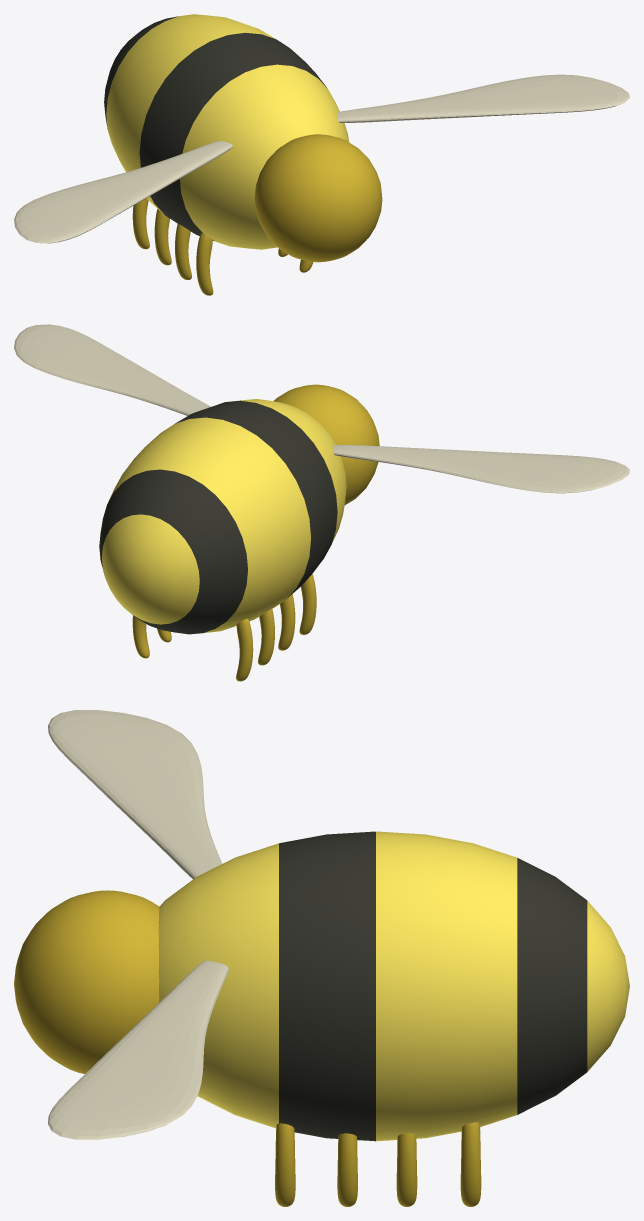
Rendered from BeeAnimation.fbx.
The picture shows the model from 3 angles, top to bottom: view 1: azimuth 30°, elevation 25°; view 2: azimuth 150°, elevation 25°; view 3: azimuth 270°, elevation 25°; orthographic projection. The views are drawn at different scales.
Visible parts, largest first — view 1: Mesh_BeeBody, Mesh_Bee_Head, Bee_Wing_Left_1, Bee_Wing_Left_1.001, Bee_Leg_Right_1, Bee_Leg_Right_2, Bee_Leg_Right_3, Bee_Leg_Right_4; view 2: Mesh_BeeBody, Bee_Wing_Left_1.001, Bee_Wing_Left_1, Mesh_Bee_Head, Bee_Leg_Right_4, Bee_Leg_Right_1, Bee_Leg_Right_3, Bee_Leg_Right_2, Bee_Leg_Left_4; view 3: Mesh_BeeBody, Mesh_Bee_Head, Bee_Wing_Left_1, Bee_Wing_Left_1.001, Bee_Leg_Left_4, Bee_Leg_Left_1, Bee_Leg_Left_3, Bee_Leg_Left_2.
Part boxes in pixels (bbox=[...]): Mesh_BeeBody: bbox=[104, 14, 348, 249]; Mesh_Bee_Head: bbox=[254, 134, 382, 262]; Bee_Wing_Left_1: bbox=[337, 74, 629, 122]; Bee_Wing_Left_1.001: bbox=[14, 141, 232, 243]; Bee_Leg_Right_1: bbox=[196, 233, 213, 295]; Bee_Leg_Right_2: bbox=[175, 223, 191, 279]; Bee_Leg_Right_3: bbox=[154, 209, 171, 265]; Bee_Leg_Right_4: bbox=[132, 198, 149, 249]; Mesh_BeeBody: bbox=[99, 399, 346, 634]; Bee_Wing_Left_1.001: bbox=[333, 445, 629, 493]; Bee_Wing_Left_1: bbox=[14, 324, 210, 415]; Mesh_Bee_Head: bbox=[273, 384, 379, 504]; Bee_Leg_Right_4: bbox=[236, 618, 253, 681]; Bee_Leg_Right_1: bbox=[299, 574, 316, 634]; Bee_Leg_Right_3: bbox=[258, 608, 274, 665]; Bee_Leg_Right_2: bbox=[278, 594, 295, 650]; Bee_Leg_Left_4: bbox=[132, 615, 149, 658]; Mesh_BeeBody: bbox=[158, 831, 629, 1141]; Mesh_Bee_Head: bbox=[14, 890, 159, 1073]; Bee_Wing_Left_1: bbox=[48, 960, 228, 1139]; Bee_Wing_Left_1.001: bbox=[48, 710, 222, 879]; Bee_Leg_Left_4: bbox=[460, 1122, 481, 1206]; Bee_Leg_Left_1: bbox=[275, 1123, 295, 1206]; Bee_Leg_Left_3: bbox=[396, 1133, 417, 1206]; Bee_Leg_Left_2: bbox=[337, 1133, 357, 1206].
Bounding box in the file's own units: 683 × 244 × 414.
